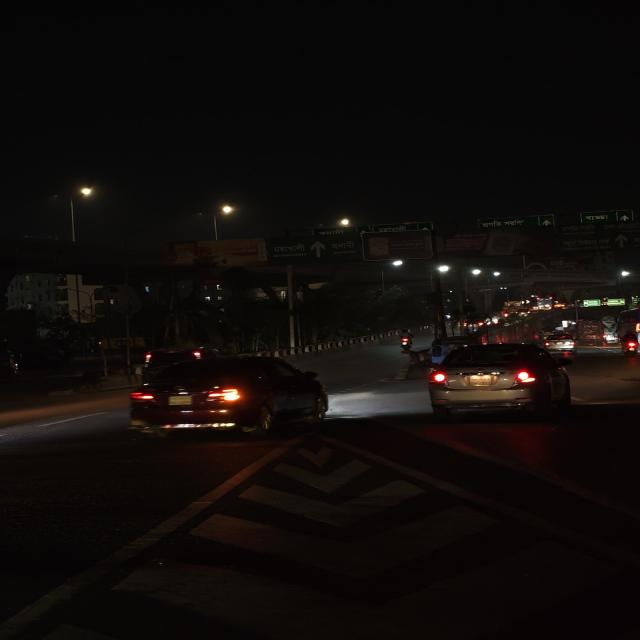bus: (574, 310, 624, 348)
car: (124, 355, 333, 439), (423, 342, 577, 419), (542, 332, 579, 353)
motorcycle: (394, 328, 417, 354), (618, 332, 640, 357)
